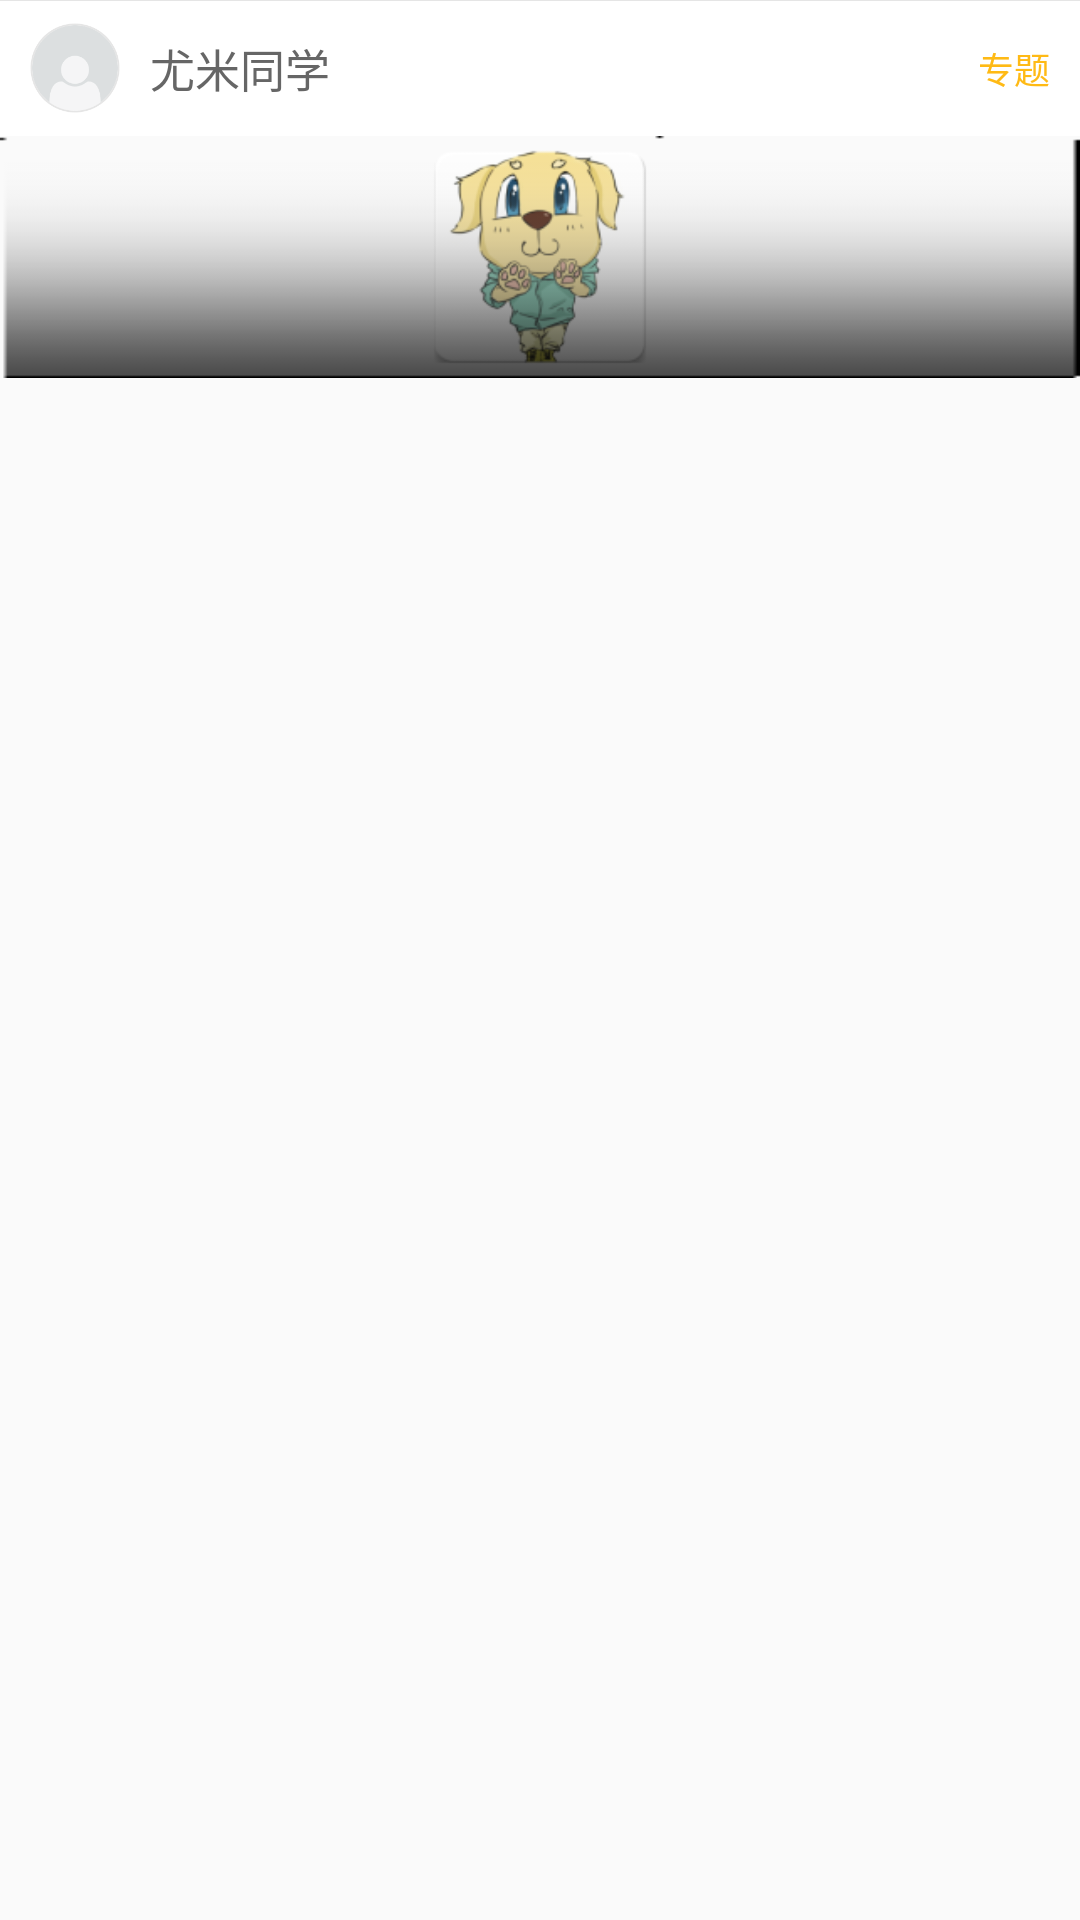

Screen size 1080w x 1920h. Icon name, then its box in pixels as (x1, y1, x2, y2):
feed list headportrait: (31, 24, 119, 112)
